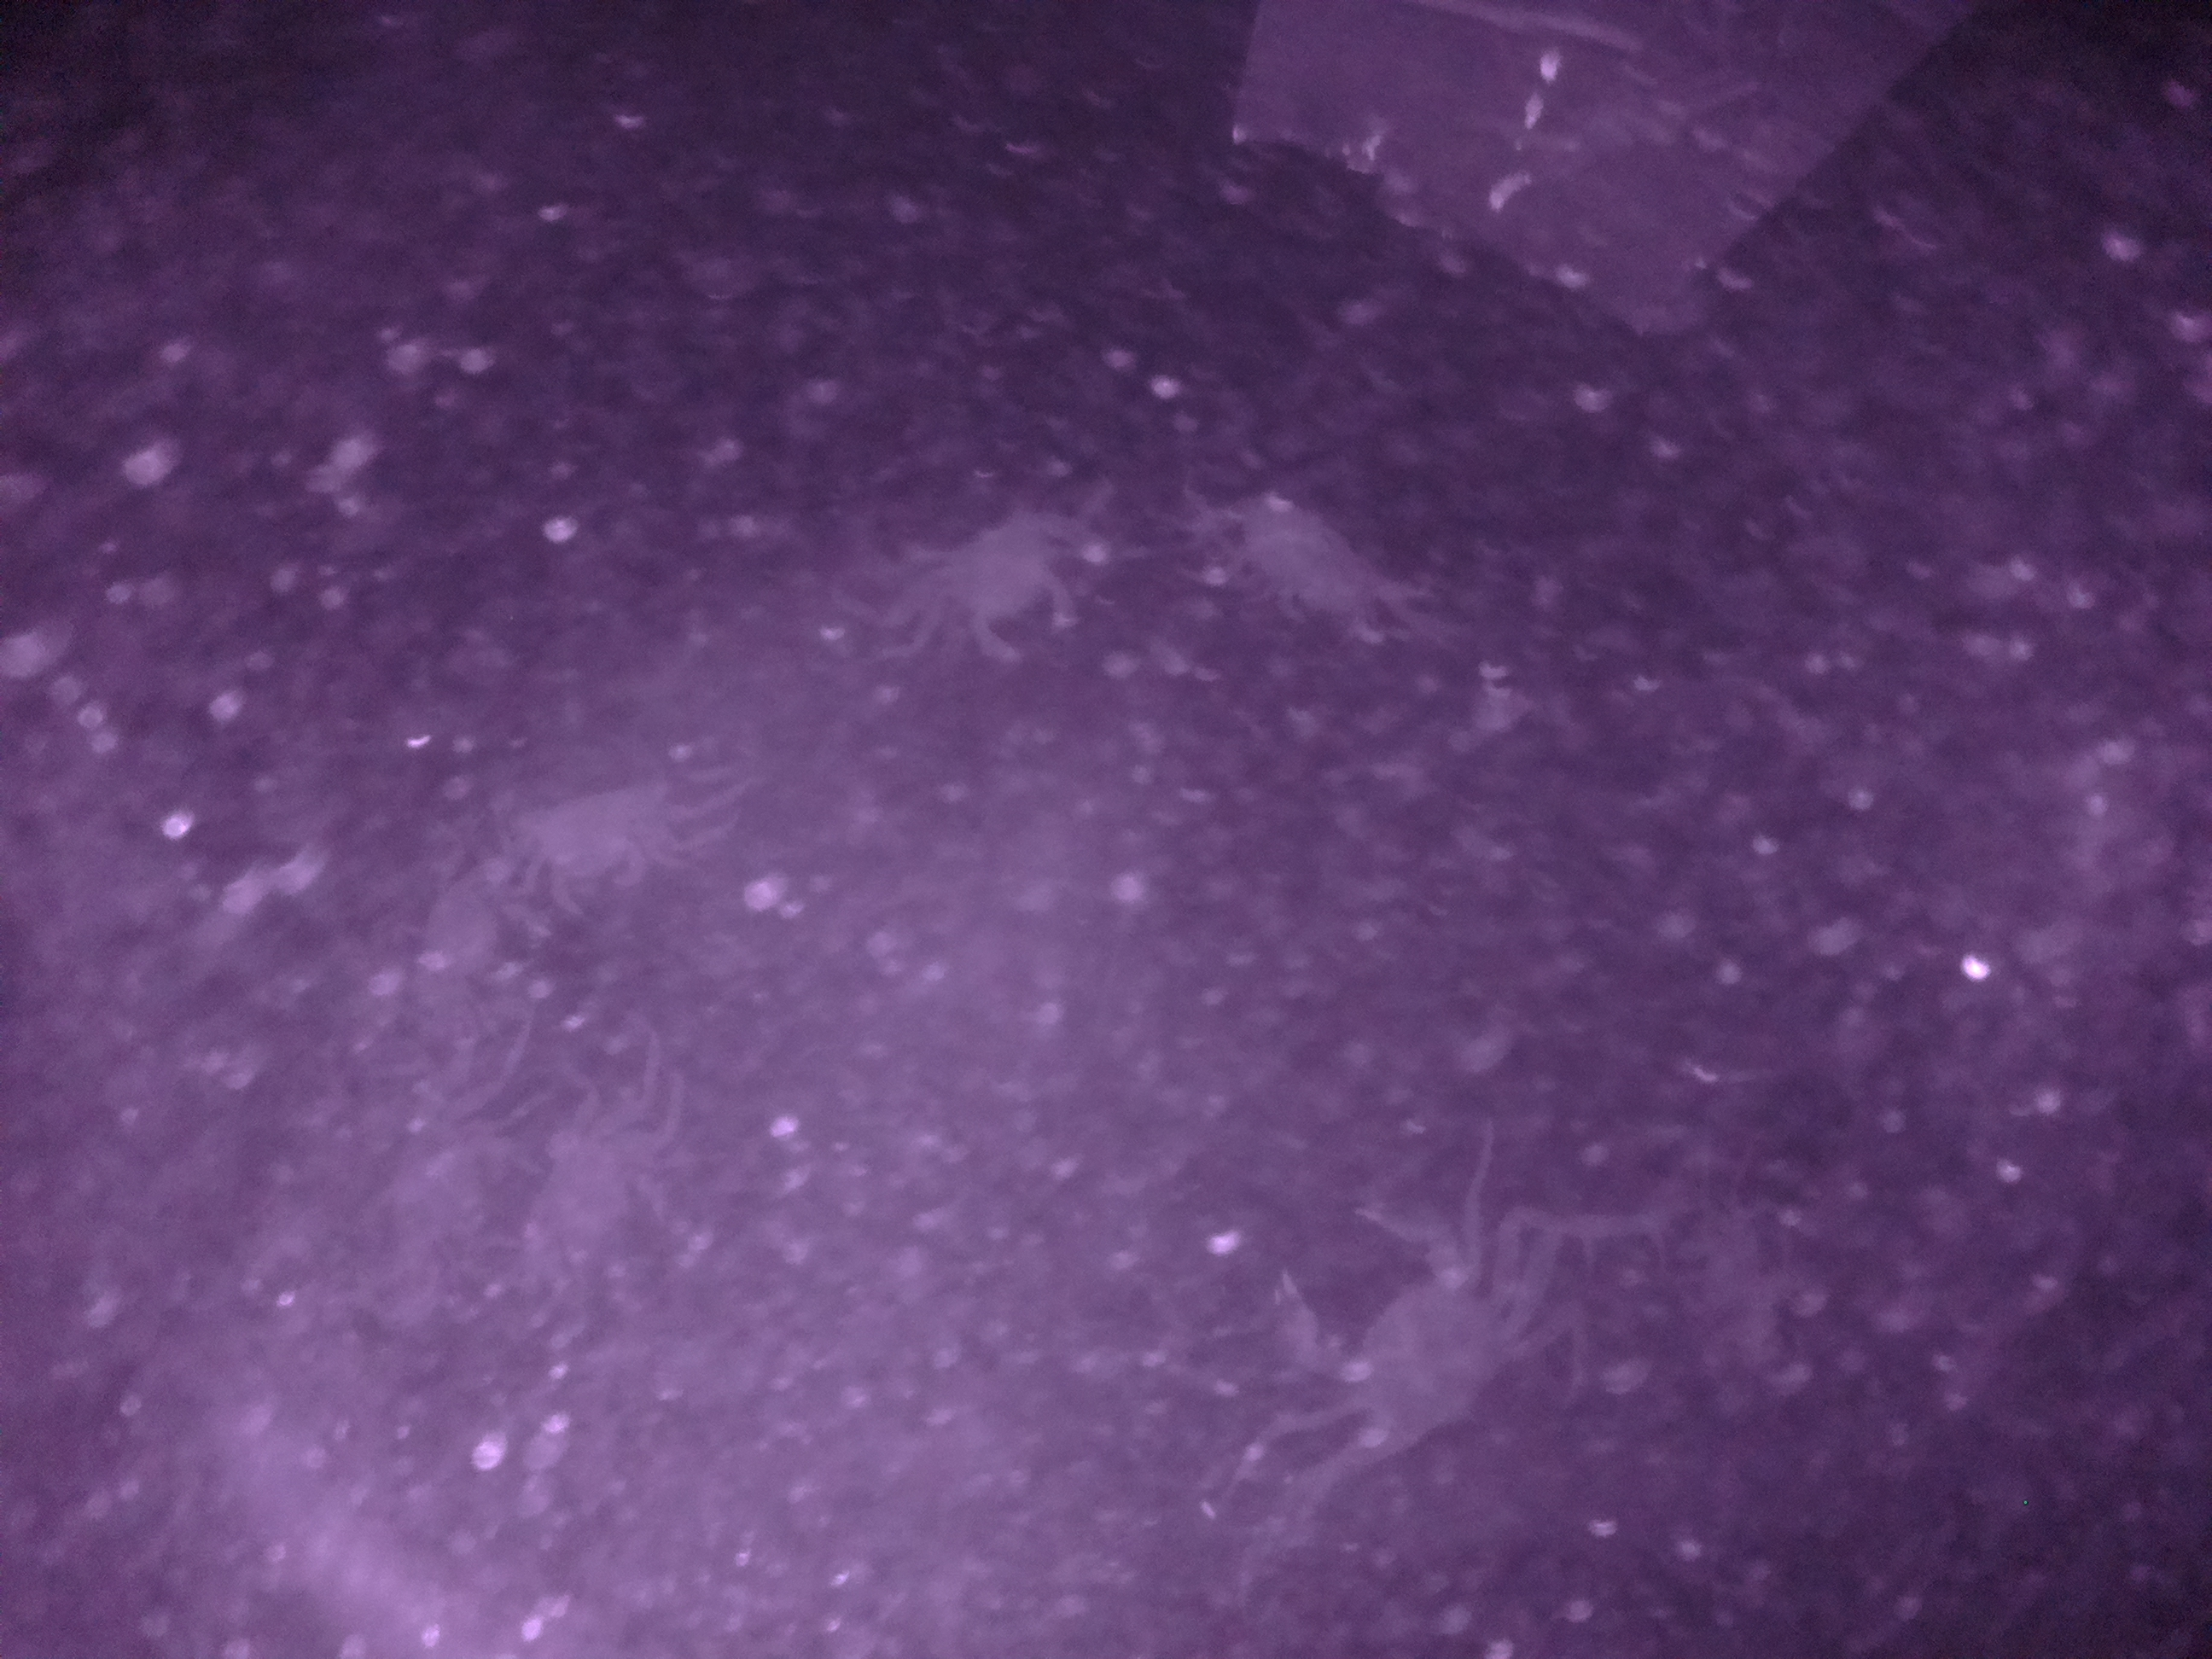Crab: (1233, 1159, 1540, 1506), (892, 486, 1106, 683)
